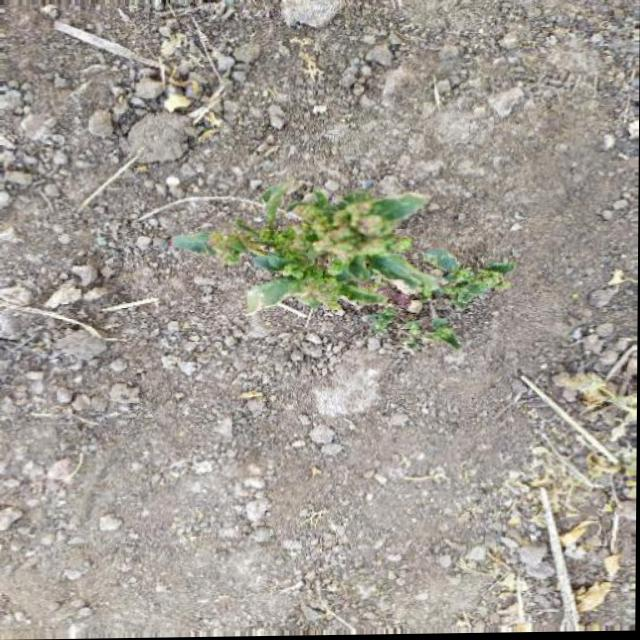weed: (180, 153, 507, 375)
